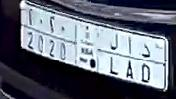0: (58, 25, 69, 62), (36, 17, 45, 56)
2: (46, 15, 58, 58), (25, 8, 35, 50)
A: (124, 36, 135, 80)
D: (140, 42, 152, 83)
L: (107, 31, 119, 76)
